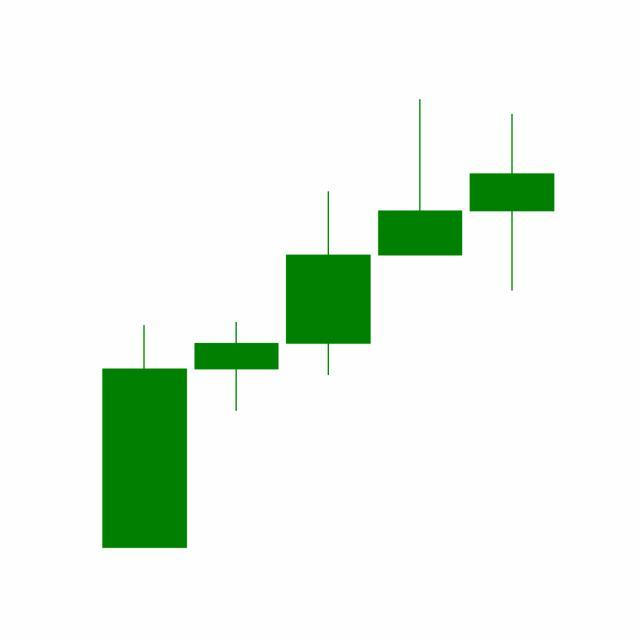Spinning Top: (466, 112, 559, 294)
